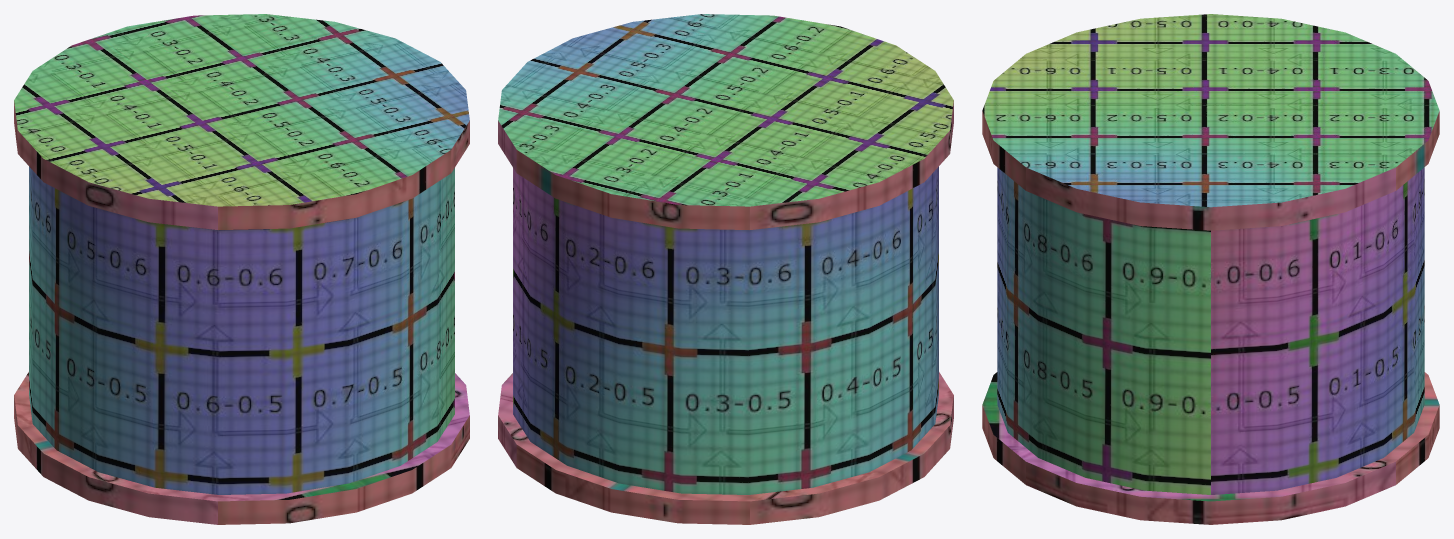
Rendered from MooCanUV.fbx.
3 renders of one model, left to right at view 1: azimuth 30°, elevation 25°; view 2: azimuth 150°, elevation 25°; view 3: azimuth 270°, elevation 25°, orthographic.
Parts seen in each view (by area): view 1: pCylinder27; view 2: pCylinder27; view 3: pCylinder27.
Boxes of the visible parts, x1,y1,x2,y2 form: pCylinder27: [14, 14, 469, 524]; pCylinder27: [498, 14, 953, 524]; pCylinder27: [982, 14, 1439, 524].
Bounding box in the file's own units: 1.99 × 1.53 × 1.99.
1 material, 1 textured.
